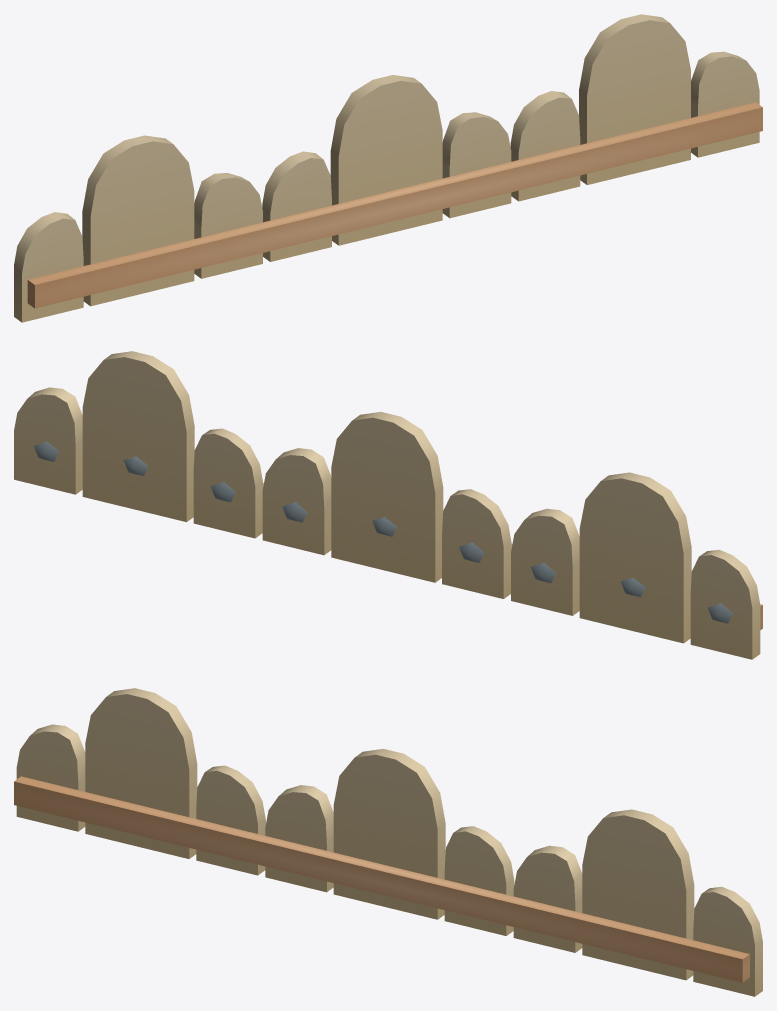
The model's file is Fence.fbx.
3 views of the same model, one above another, from view 1: azimuth 30°, elevation 25°; view 2: azimuth 150°, elevation 25°; view 3: azimuth 330°, elevation 25° (orthographic).
Parts seen in each view (by area): view 1: Fence01; view 2: Fence01; view 3: Fence01.
Boxes of the visible parts, bbox=[...] form: Fence01: bbox=[14, 14, 762, 322]; Fence01: bbox=[14, 351, 762, 659]; Fence01: bbox=[14, 688, 762, 996].
Bounding box in the file's own units: 2.18 × 0.4233 × 0.0927.
